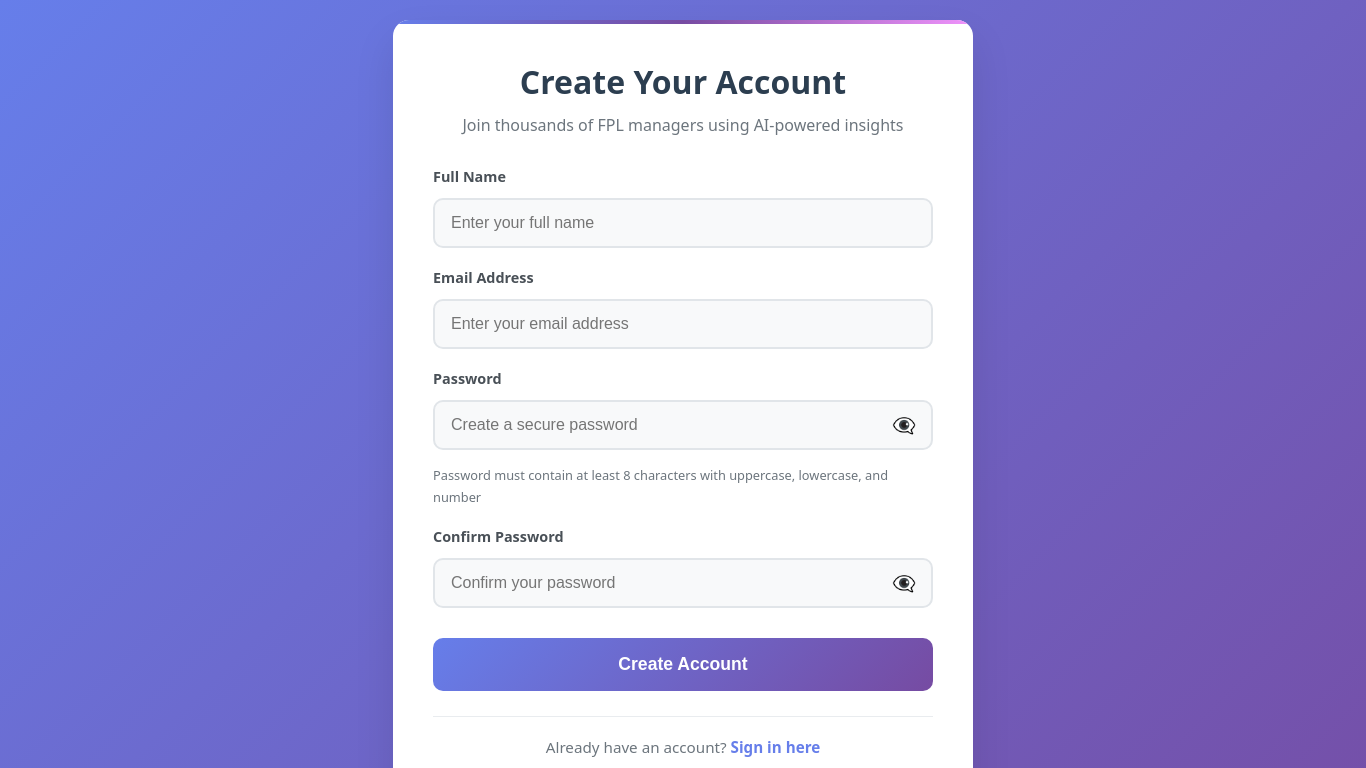
Test: rejects mismatched passwords
In the field labelled "Full Name": {"x": 683, "y": 223} x1=433 y1=198 x2=933 y2=248, type "Alex Manager"
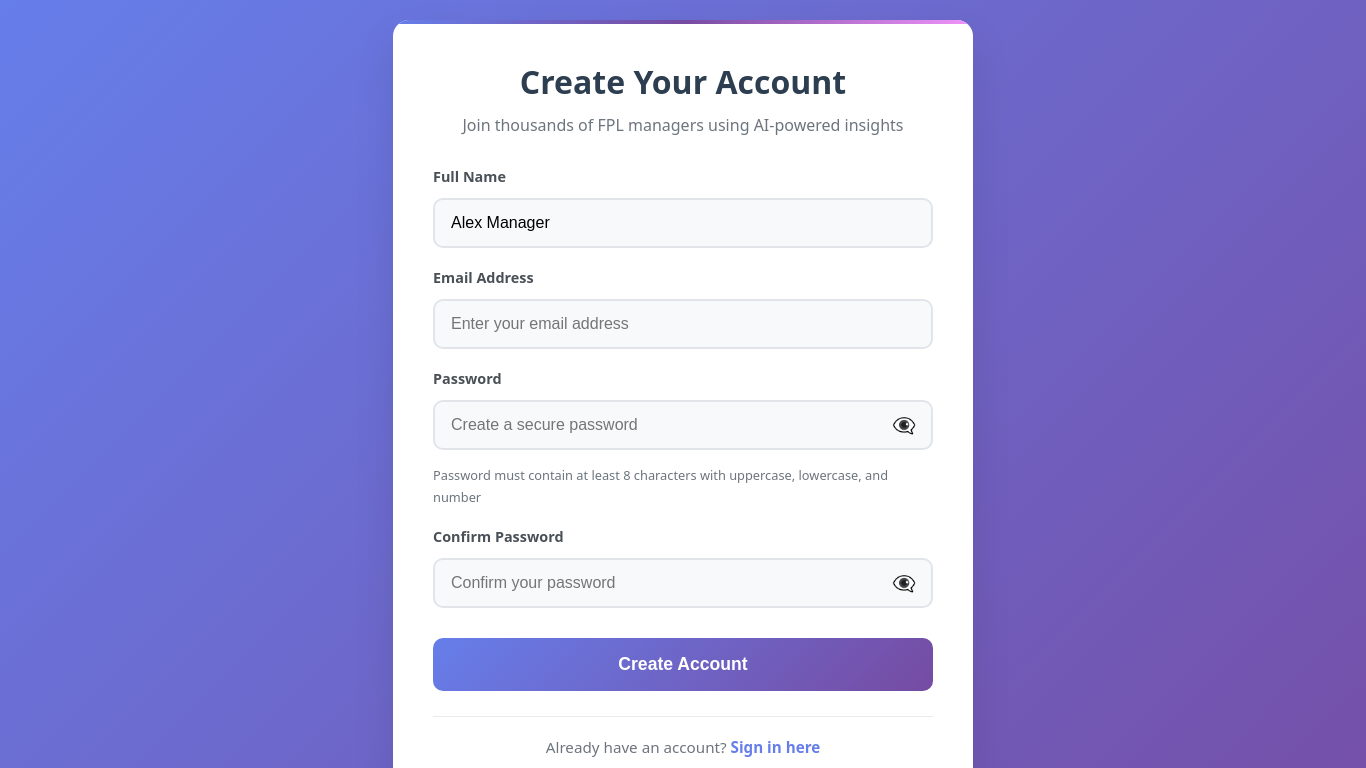
In the field labelled "Email Address": {"x": 683, "y": 324} x1=433 y1=299 x2=933 y2=349, type "alex@example.com"
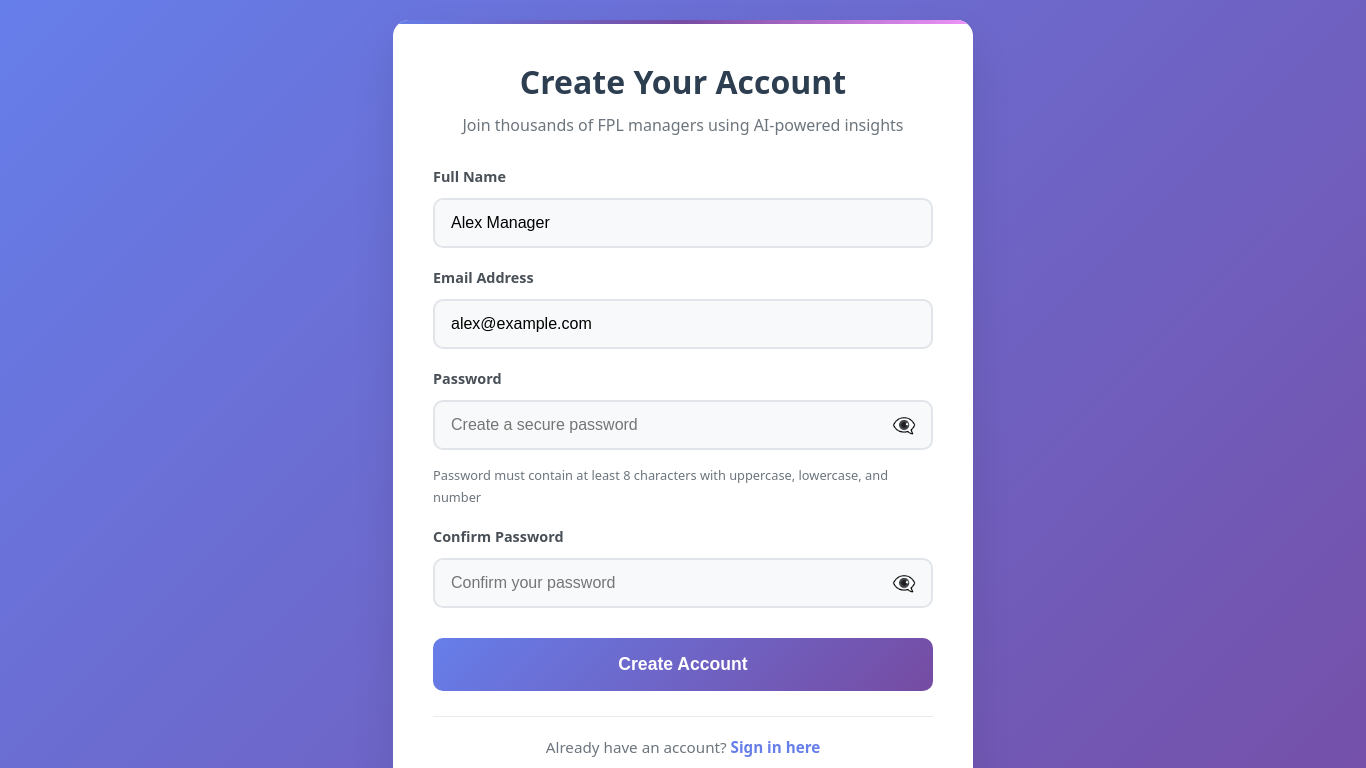
In the password field labelled "Password": {"x": 683, "y": 425} x1=433 y1=400 x2=933 y2=450, type "Password1"
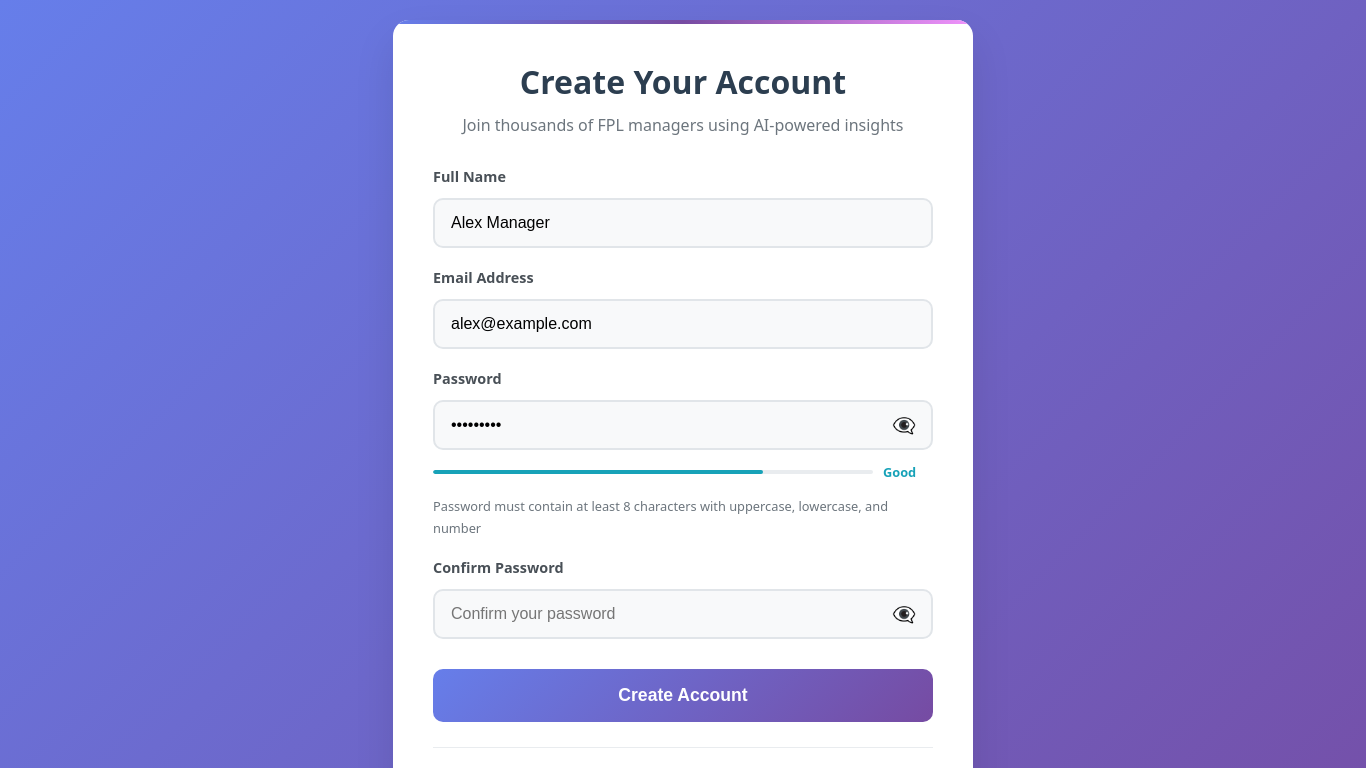
In the password field labelled "Confirm Password": {"x": 683, "y": 614} x1=433 y1=589 x2=933 y2=639, type "Password2"
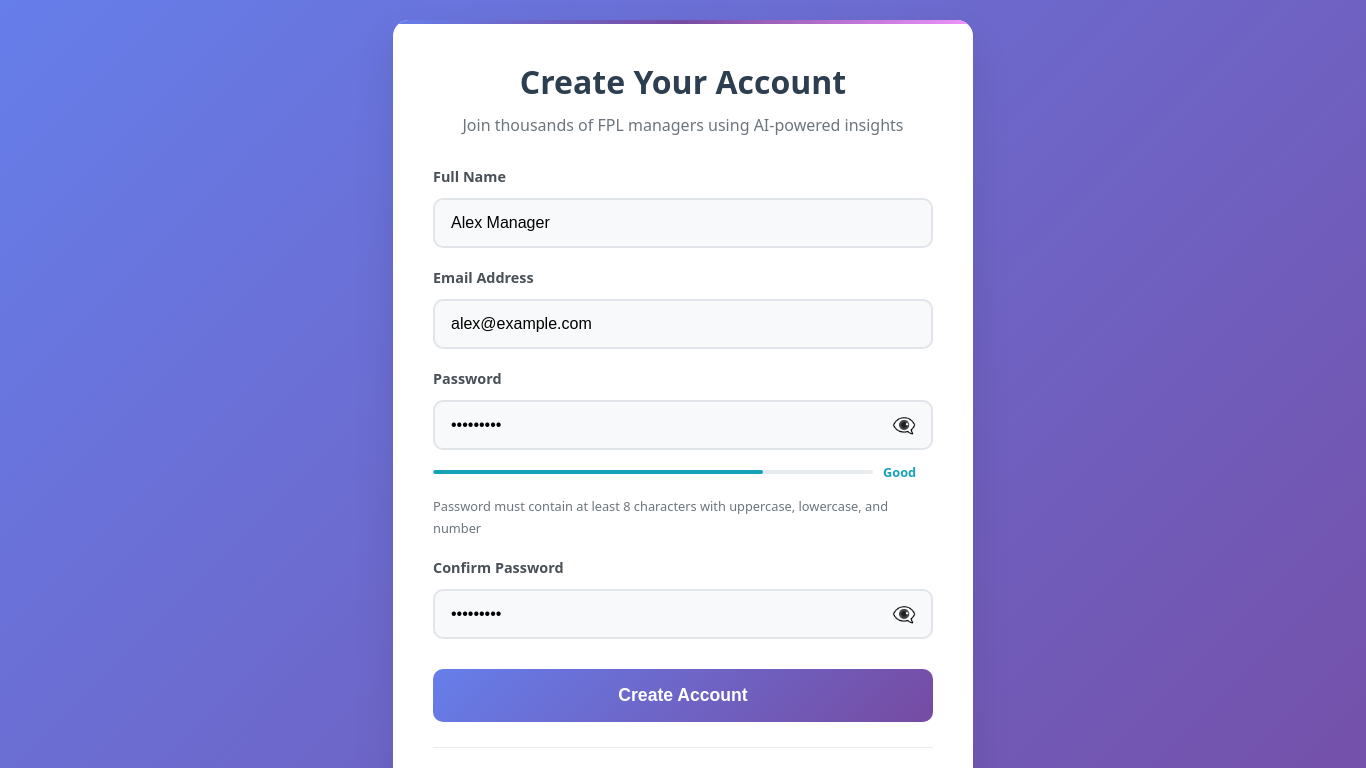
Click the button "Create Account": {"x": 683, "y": 696} x1=433 y1=669 x2=933 y2=722
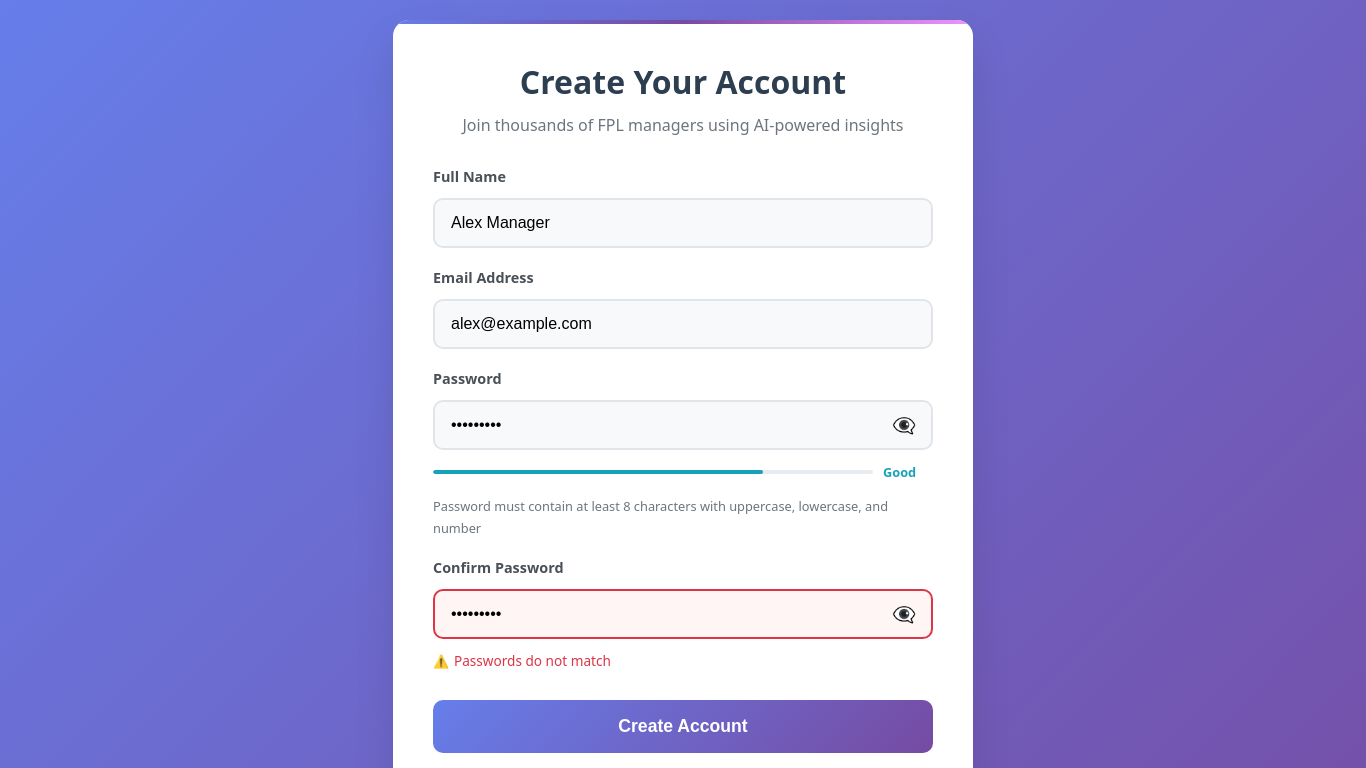
Check: the text "Passwords do not match" is shown, box x1=454 y1=651 x2=611 y2=670
